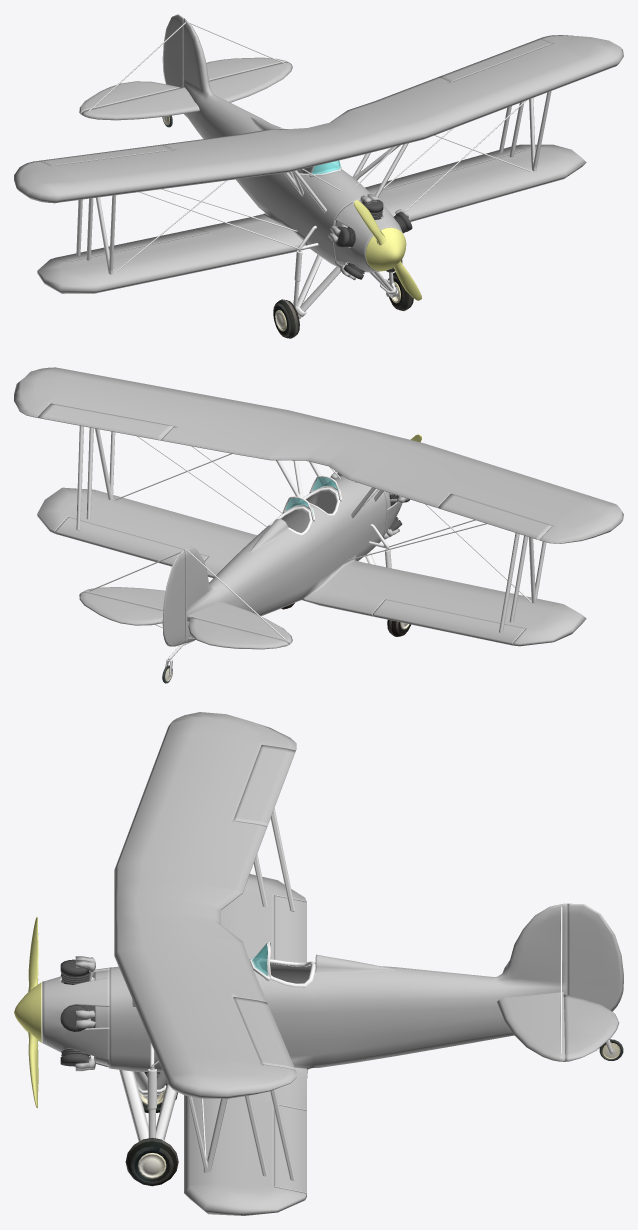
The model's file is Great Lakes Biplane.obj.
3 renders of one model, top to bottom at view 1: azimuth 30°, elevation 25°; view 2: azimuth 150°, elevation 25°; view 3: azimuth 270°, elevation 25°, orthographic. The views are drawn at different scales.
Parts seen in each view (by area): view 1: TopWing, Fuselage, TailHoriz, WingStruts, Elevator, SpanWires, EngCowling1, Engine, Rudder, PropCone, L_TopAileron, LBotAileron (+6 smaller); view 2: Fuselage, TopWing, Elevator, WingStruts, RBotAileron, TailHoriz, LBotAileron, L_TopAileron, R_TopAileron, Rudder, SpanWires, CockpitTrim (+2 smaller); view 3: TopWing, Fuselage, Rudder, EngCowling1, TailHoriz, R_TopAileron, Elevator, LBotAileron, Engine, L_TopAileron, RBotAileron, LWheel (+4 smaller).
Boxes of the visible parts, x1,y1,x2,y2 form: TopWing: (14,35,623,203); Fuselage: (37,18,586,293); TailHoriz: (81,61,292,120); WingStruts: (86,91,551,274); Elevator: (79,57,286,113); SpanWires: (88,22,531,273); EngCowling1: (333,202,403,272); Engine: (328,194,412,280); Rudder: (162,14,183,87); PropCone: (365,227,406,271); L_TopAileron: (438,38,551,81); LBotAileron: (373,146,525,189); Fuselage: (37,475,586,646); TopWing: (14,367,623,543); Elevator: (79,592,289,649); WingStruts: (86,427,546,622); RBotAileron: (373,599,525,645); TailHoriz: (83,587,292,643); LBotAileron: (55,517,208,566); L_TopAileron: (37,403,173,440); R_TopAileron: (438,493,552,540); Rudder: (162,550,185,646); SpanWires: (88,436,531,638); CockpitTrim: (267,487,340,535); TopWing: (114,712,296,1098); Fuselage: (109,874,567,1215); Rudder: (567,903,623,1011); EngCowling1: (42,967,109,1067); TailHoriz: (497,960,565,1061); R_TopAileron: (233,744,295,826); Elevator: (563,994,619,1061); LBotAileron: (274,1105,306,1193); Engine: (60,956,95,1071); L_TopAileron: (233,996,295,1069); RBotAileron: (274,895,306,962); LWheel: (125,1138,178,1186).
Size of the model in its own units: 8.14 by 2.54 by 5.53.
